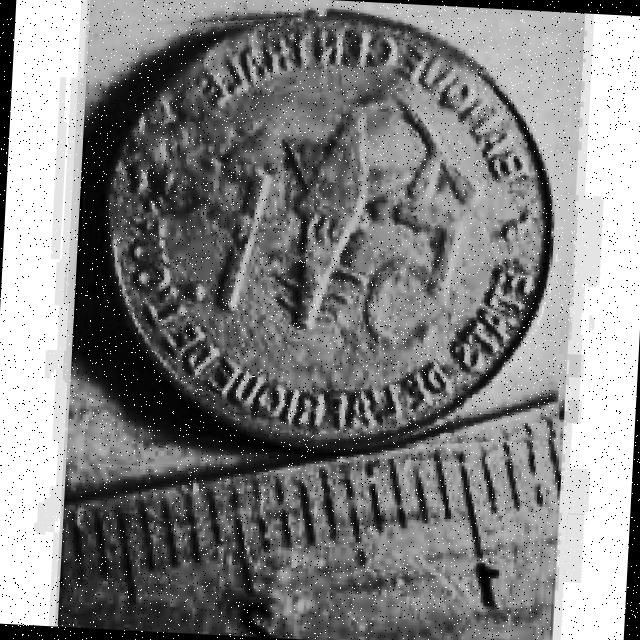derem: (107, 14, 547, 447)
